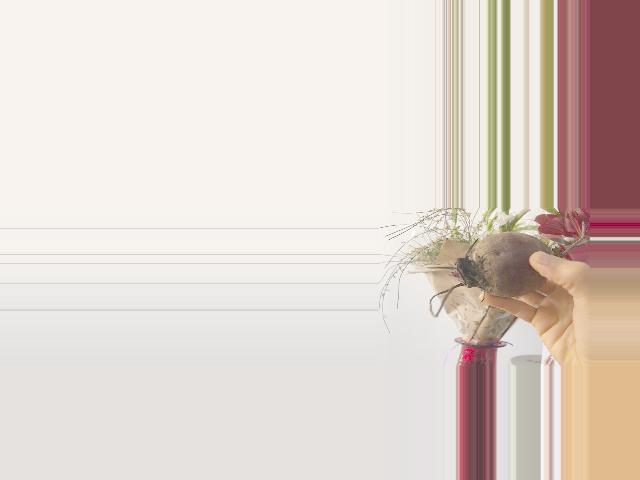beet: (428, 222, 584, 317)
